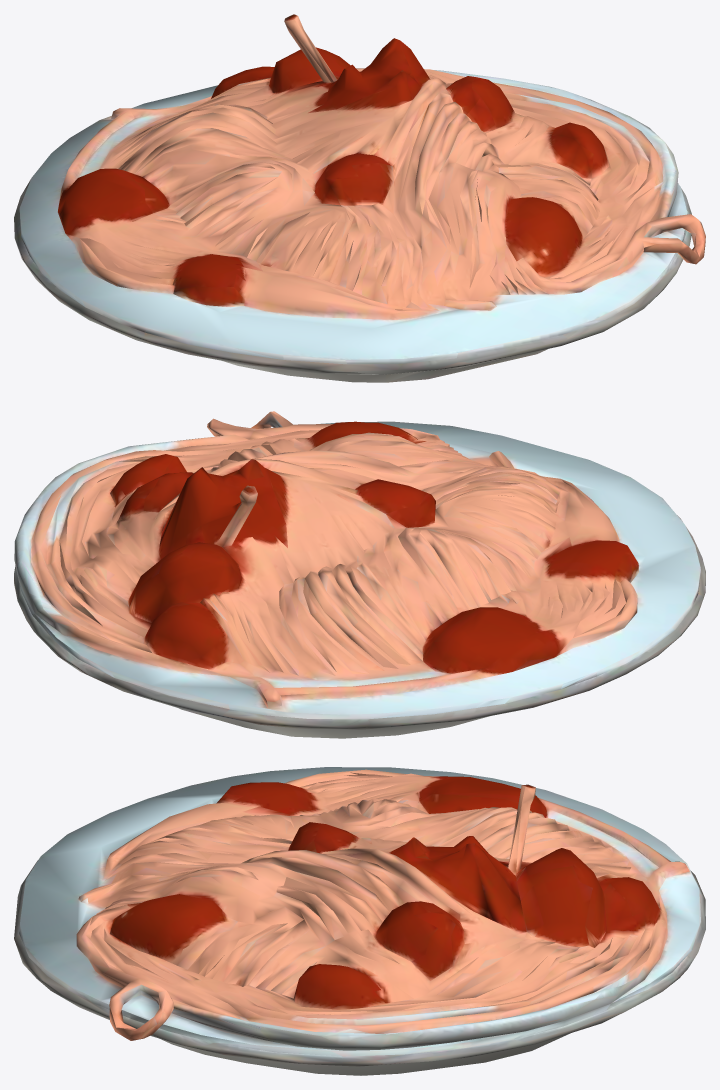
File: pates.glb
The picture shows the model from 3 angles, top to bottom: view 1: azimuth 30°, elevation 25°; view 2: azimuth 150°, elevation 25°; view 3: azimuth 270°, elevation 25°; orthographic projection. The views are drawn at different scales.
Parts seen in each view (by area): view 1: LOD0; view 2: LOD0; view 3: LOD0.
Part boxes in pixels (x1,y1,x2,y2): LOD0: (14, 14, 705, 382); LOD0: (14, 411, 705, 738); LOD0: (14, 767, 705, 1075).
Size of what is drawn, in the model's own units: 1.14 by 0.3572 by 1.14.
1 material, 1 textured.
